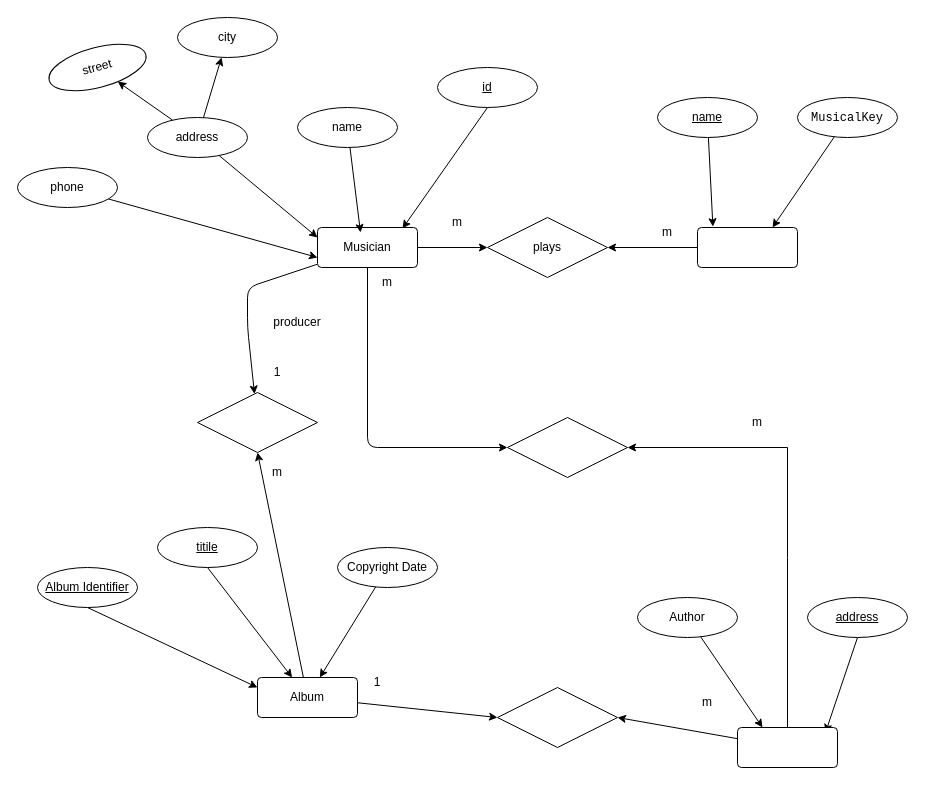
Some shapes in this 925 by 785 pixel diagram are drawn without their labels. The shapes that lost their labels are listed below. From the top down, each one's centre as x and y in pixels, then its label:
At pixel 747 247: "Instrument".
At pixel 257 422: "produces".
At pixel 567 447: "perfoms".
At pixel 557 717: "contins".
At pixel 787 747: "Song".
